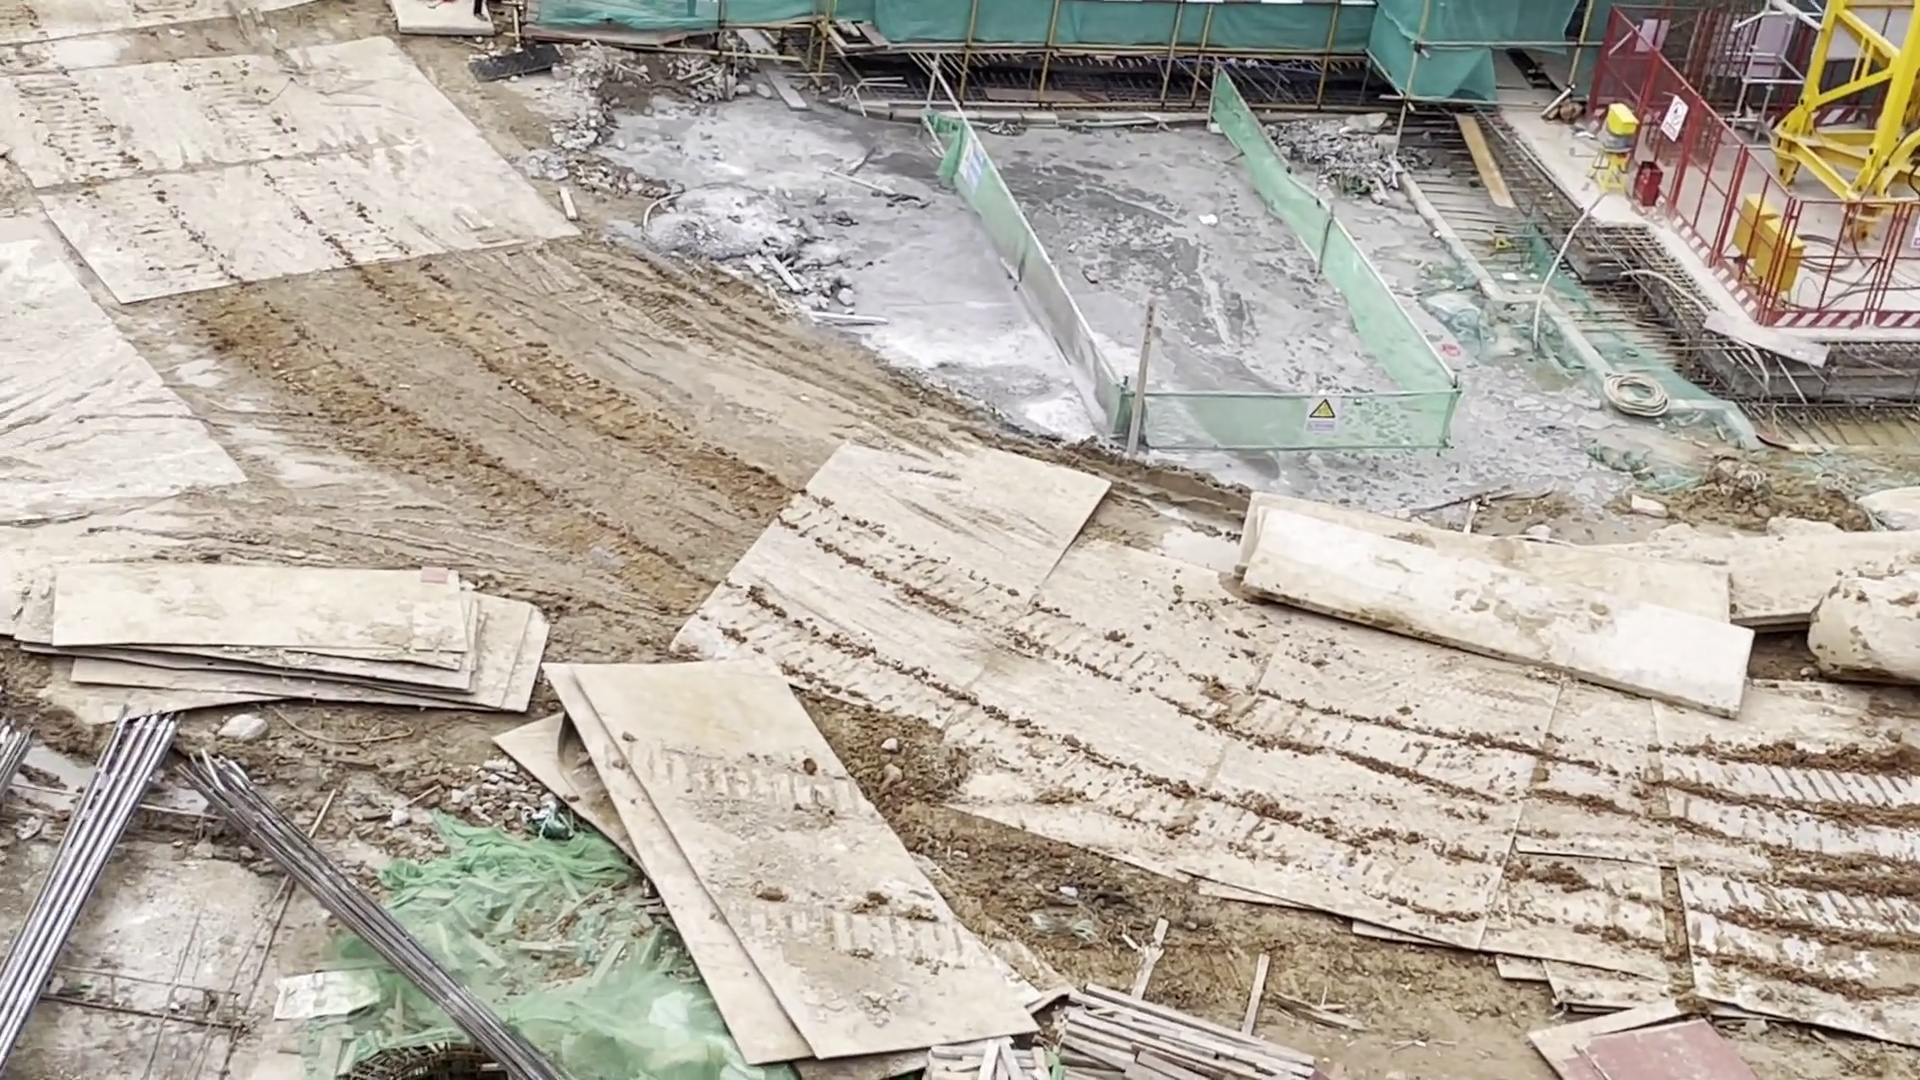ebox: (1731, 193, 1805, 297), (1602, 102, 1638, 194)
fence: (1592, 9, 1920, 335)
slogan: (949, 133, 989, 193), (1304, 396, 1340, 431)
